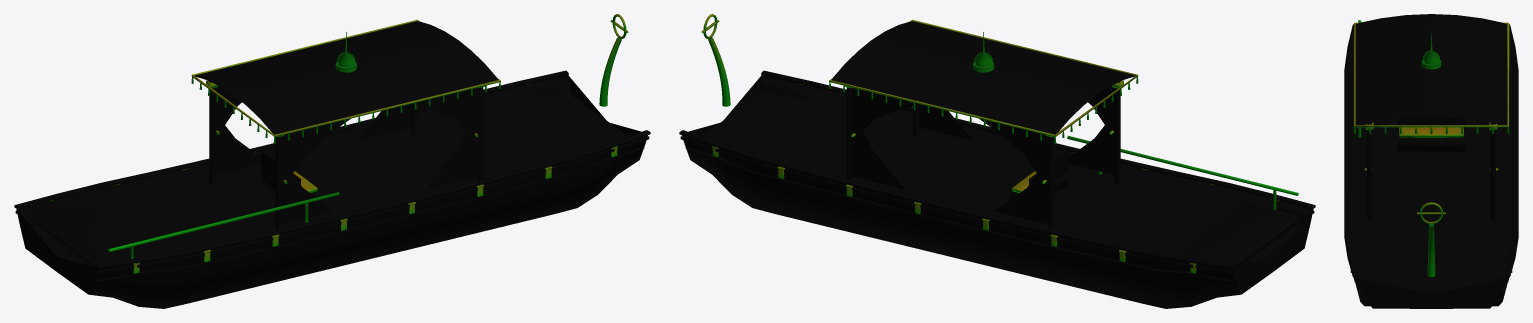
The model's file is white_barge.glb.
3 renders of one model, left to right at view 1: azimuth 30°, elevation 25°; view 2: azimuth 150°, elevation 25°; view 3: azimuth 270°, elevation 25°, orthographic. The views are drawn at different scales.
Visible parts, largest first — view 1: white_barge; view 2: white_barge; view 3: white_barge.
Part boxes in pixels (x1,y1,x2,y2): white_barge: (14, 14, 650, 308); white_barge: (679, 14, 1315, 308); white_barge: (1344, 14, 1518, 308).
Size of what is drawn, in the model's own units: 12.3 by 4.08 by 3.52.
